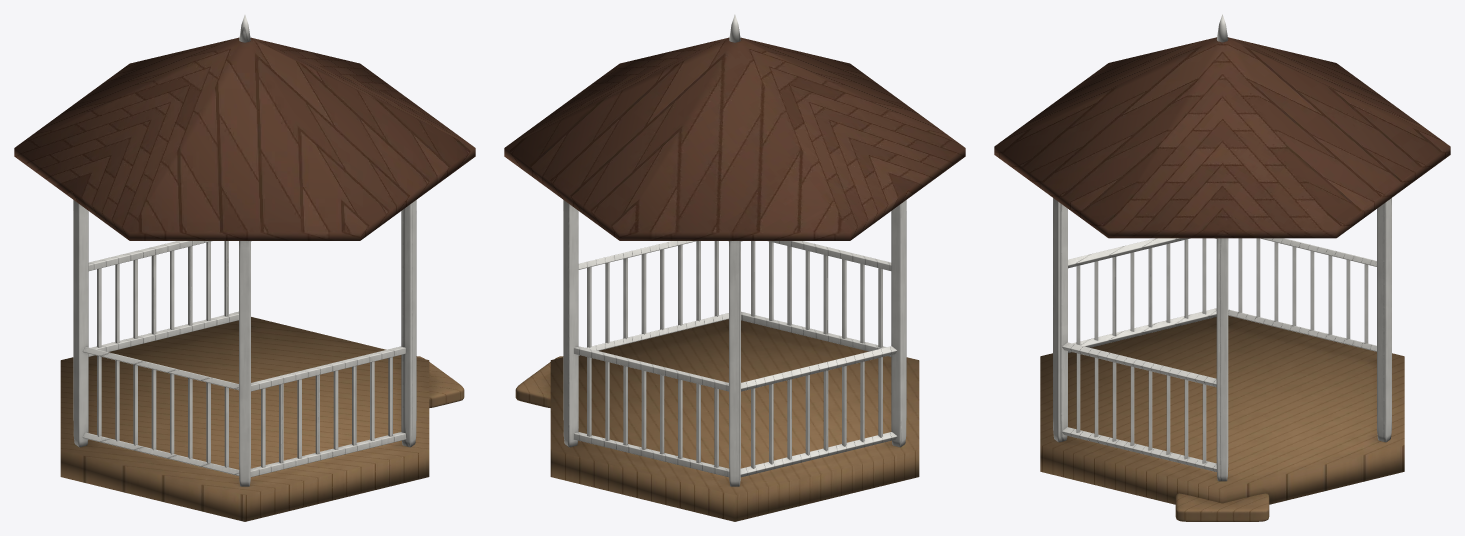
Rendered from white-hexagonal.glb.
3 views of the same model, side by side, from view 1: azimuth 30°, elevation 25°; view 2: azimuth 150°, elevation 25°; view 3: azimuth 270°, elevation 25° (orthographic).
Visible parts, largest first — view 1: roof_shingle, deck_wood, paint_primary_gazebo; view 2: roof_shingle, deck_wood, paint_primary_gazebo; view 3: roof_shingle, deck_wood, paint_primary_gazebo.
Boxes of the visible parts, x1,y1,x2,y2 form: roof_shingle: (14, 37, 475, 240); deck_wood: (60, 317, 464, 521); paint_primary_gazebo: (73, 15, 416, 486); roof_shingle: (504, 37, 965, 240); deck_wood: (515, 319, 919, 521); paint_primary_gazebo: (563, 14, 906, 486); roof_shingle: (994, 37, 1450, 238); deck_wood: (1040, 315, 1404, 521); paint_primary_gazebo: (1053, 14, 1391, 481).
Size of the model in its own units: 3.74 by 3.9 by 3.9.
3 materials, 3 textured.
